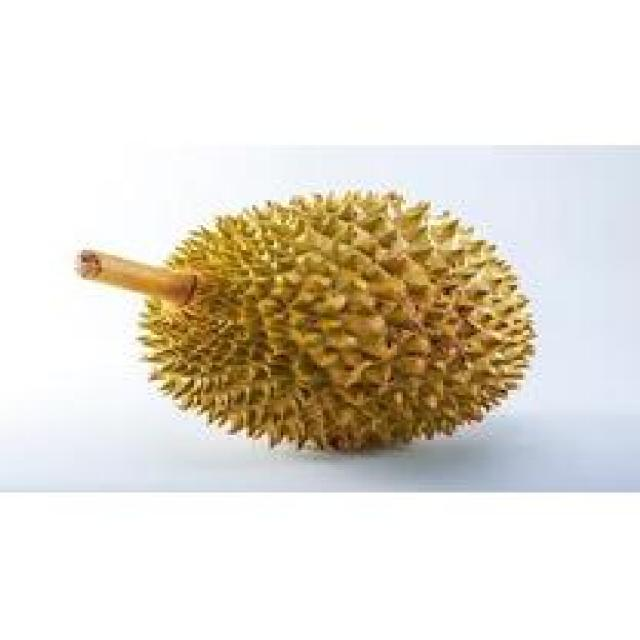fruit: (101, 150, 517, 492)
